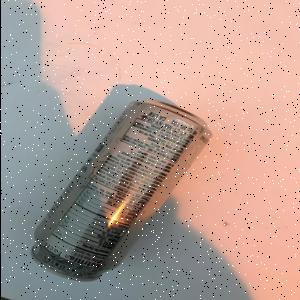Can: (29, 99, 214, 283)
